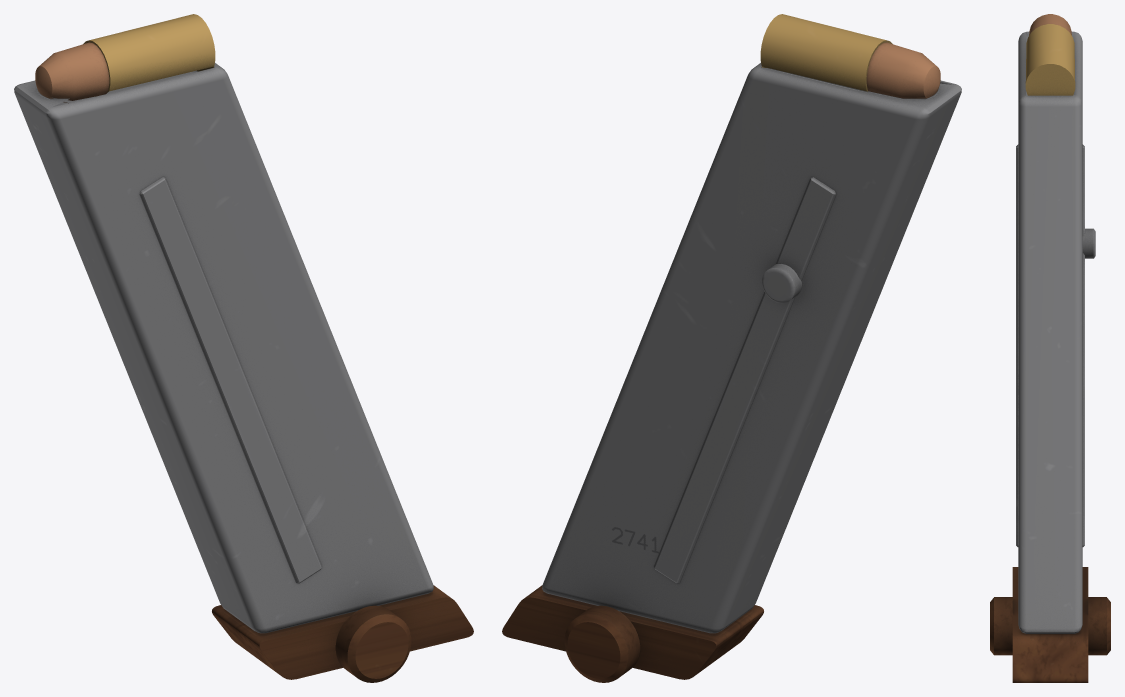
File: afp08_mag_lod1.fbx
The picture shows the model from 3 angles, left to right: view 1: azimuth 30°, elevation 25°; view 2: azimuth 150°, elevation 25°; view 3: azimuth 270°, elevation 25°; orthographic projection. The views are drawn at different scales.
Visible parts, largest first — view 1: P08M_LOD_1; view 2: P08M_LOD_1; view 3: P08M_LOD_1.
Part boxes in pixels (x1,y1,x2,y2): P08M_LOD_1: [14, 14, 473, 682]; P08M_LOD_1: [502, 14, 961, 682]; P08M_LOD_1: [990, 14, 1110, 682].
Size of the model in its own units: 7.61 by 2.4 by 11.69.
